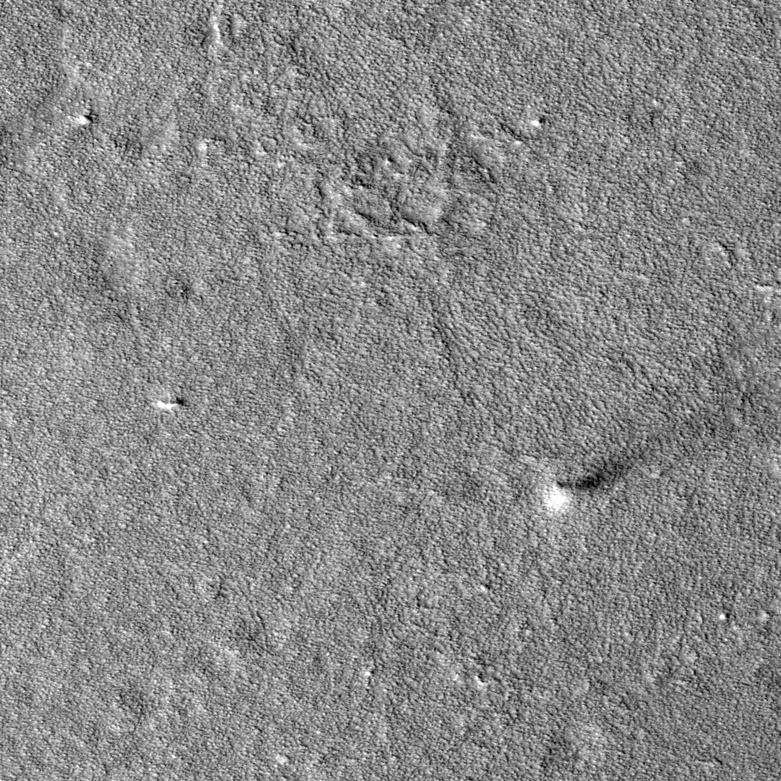dust_devil: (540, 445, 650, 516)
